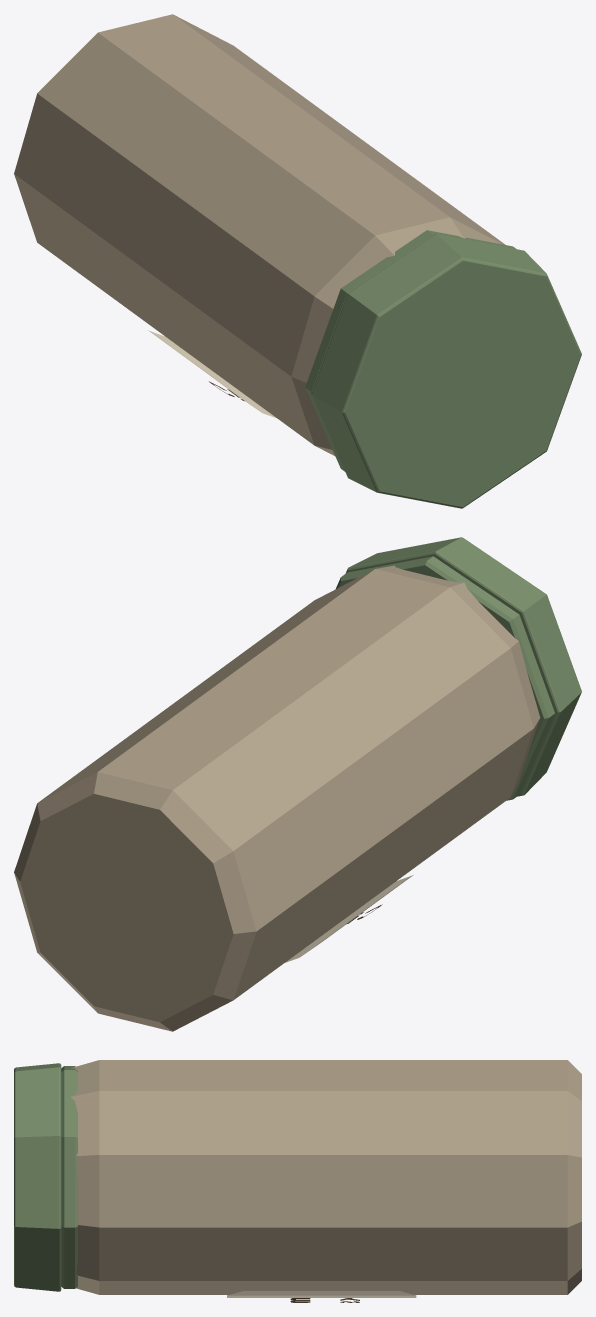
Rendered from cinnamon_sticks.glb.
The picture shows the model from 3 angles, top to bottom: view 1: azimuth 30°, elevation 25°; view 2: azimuth 150°, elevation 25°; view 3: azimuth 270°, elevation 25°; orthographic projection. The views are drawn at different scales.
Visible parts, largest first — view 1: cinnamon_sticks; view 2: cinnamon_sticks; view 3: cinnamon_sticks.
Boxes of the visible parts, bbox=[...] form: cinnamon_sticks: bbox=[14, 14, 581, 508]; cinnamon_sticks: bbox=[14, 537, 581, 1031]; cinnamon_sticks: bbox=[14, 1060, 581, 1302].
Size of the model in its own units: 0.0514 by 0.0522 by 0.12.
